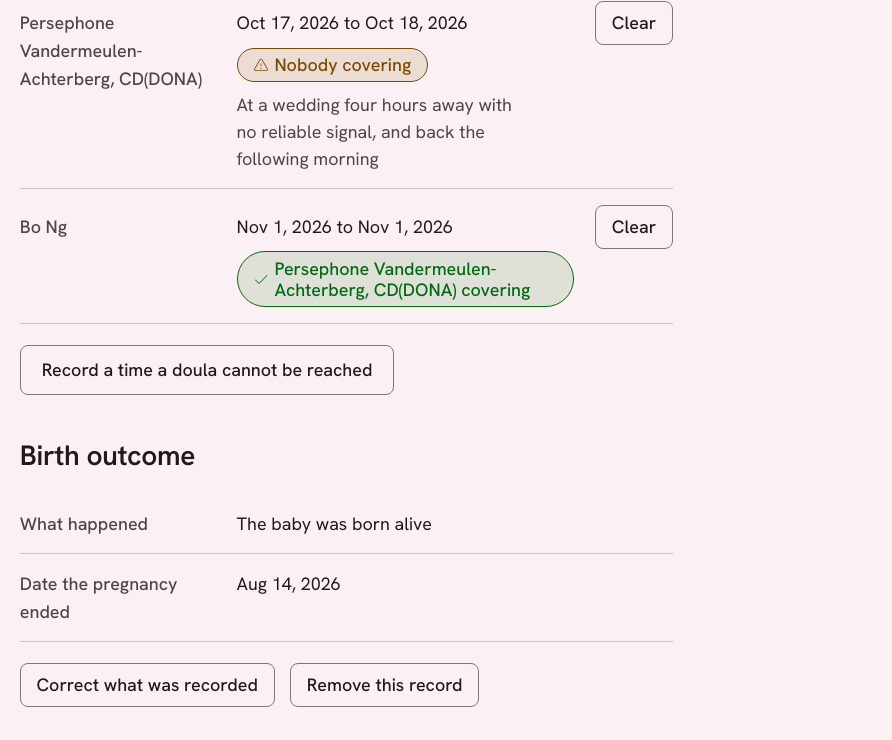
Scenario: the on-call section on a birth (#1093) › records a gap for a doula on the birth, and reads the section back
(page scrolled)
Click the button "Record a time a doula cannot be reached" at (207, 370), box [20,344,394,395]
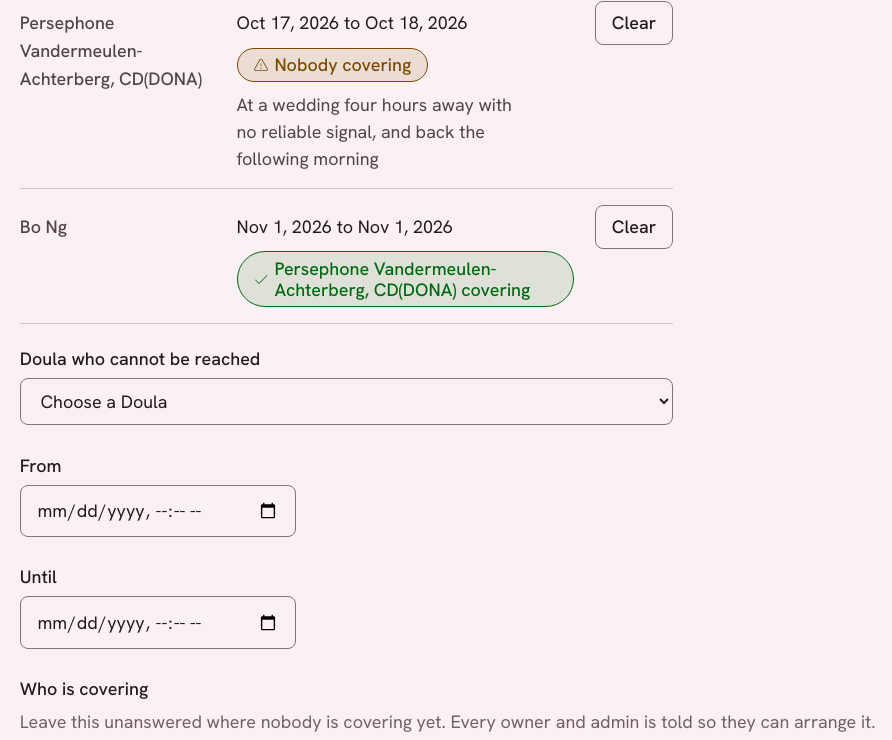
Select "Bo Ng" in the dropdown labelled "Doula who cannot be reached" at (346, 401), box [20,378,673,425]
Type "2026-10-20T22:00" into the field labelled "From" at (158, 511), box [20,485,296,537]
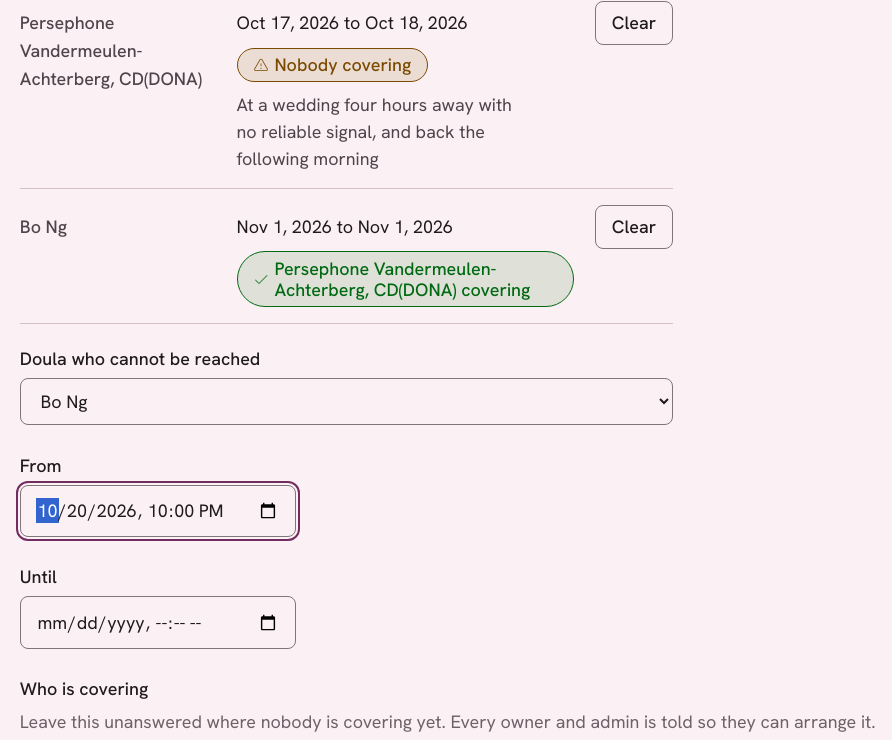
Type "2026-10-21T08:00" into the field labelled "Until" at (158, 623), box [20,596,296,649]
(page scrolled)
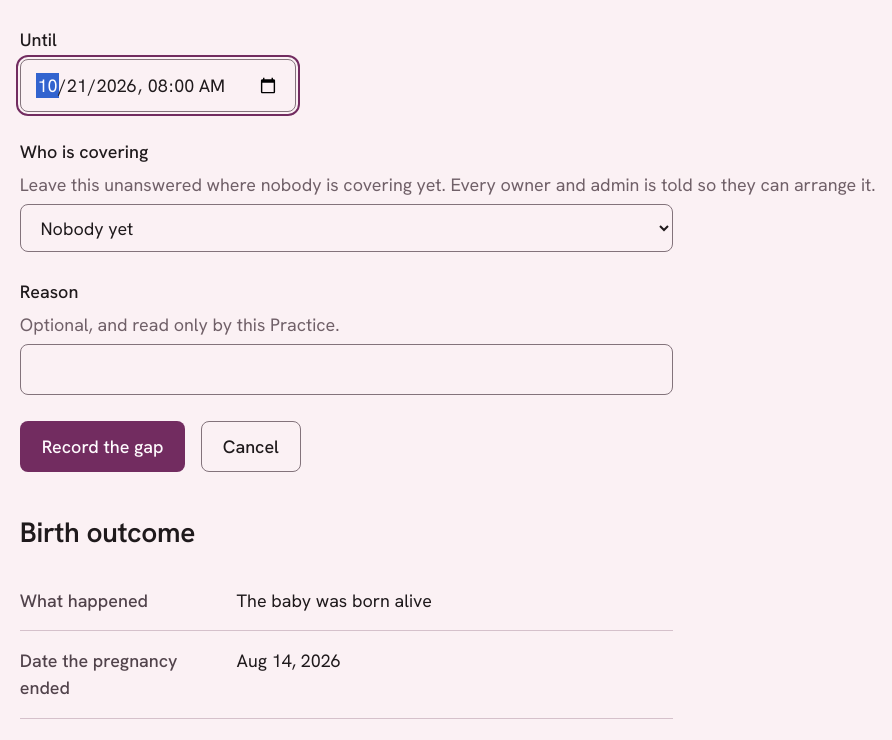
Type "Away overnight" into the field labelled "Reason" at (346, 370), box [20,344,673,395]
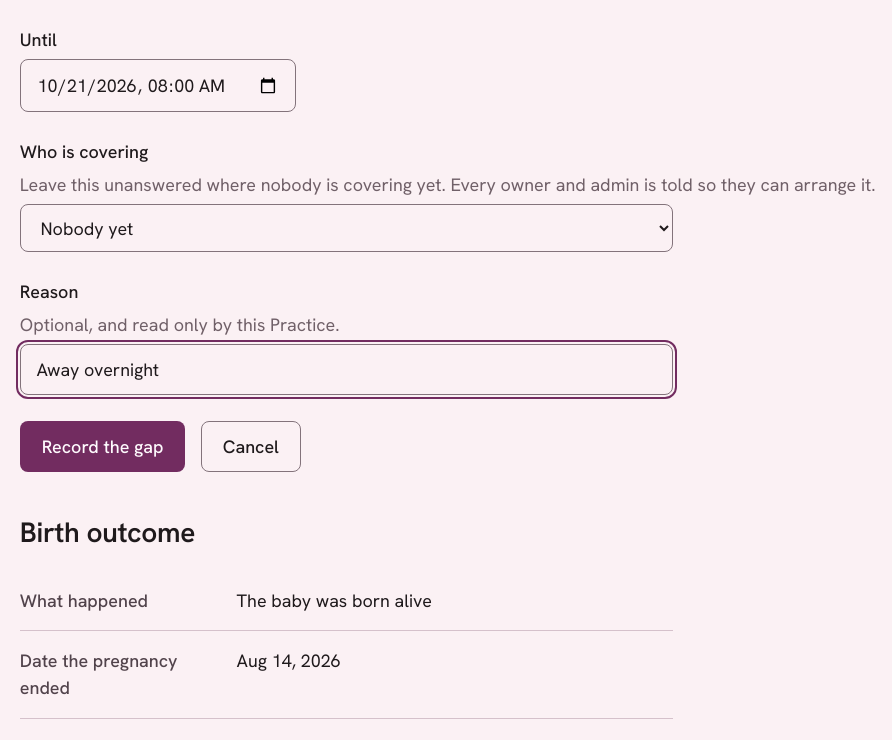
Click the button "Record the gap" at (103, 446), box [20,421,185,472]
(page scrolled)
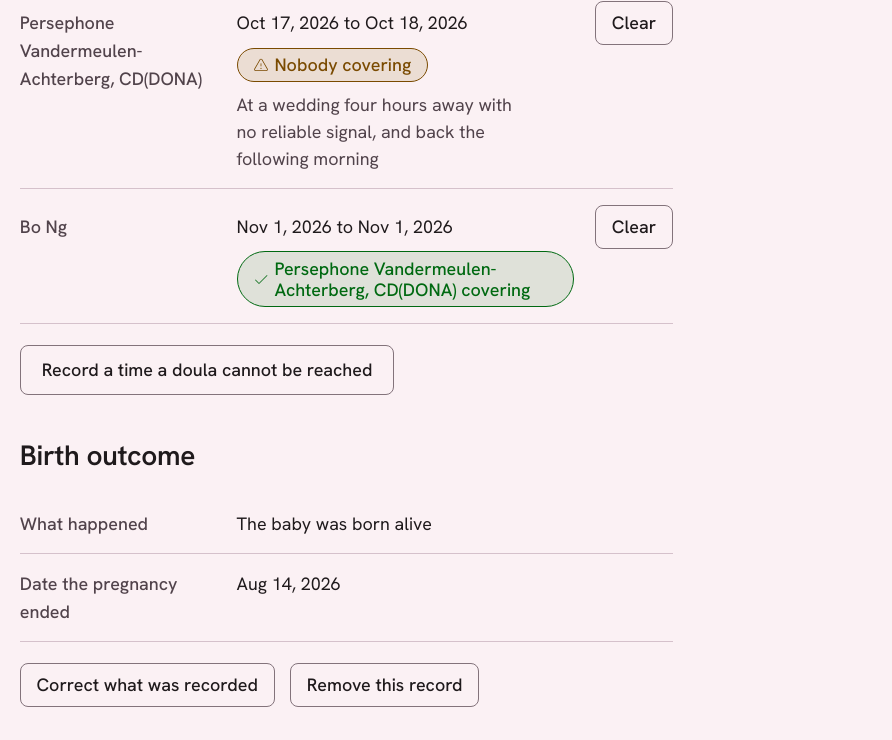
Click the button "Record a time a doula cannot be reached" at (207, 370), box [20,344,394,395]
(page scrolled)
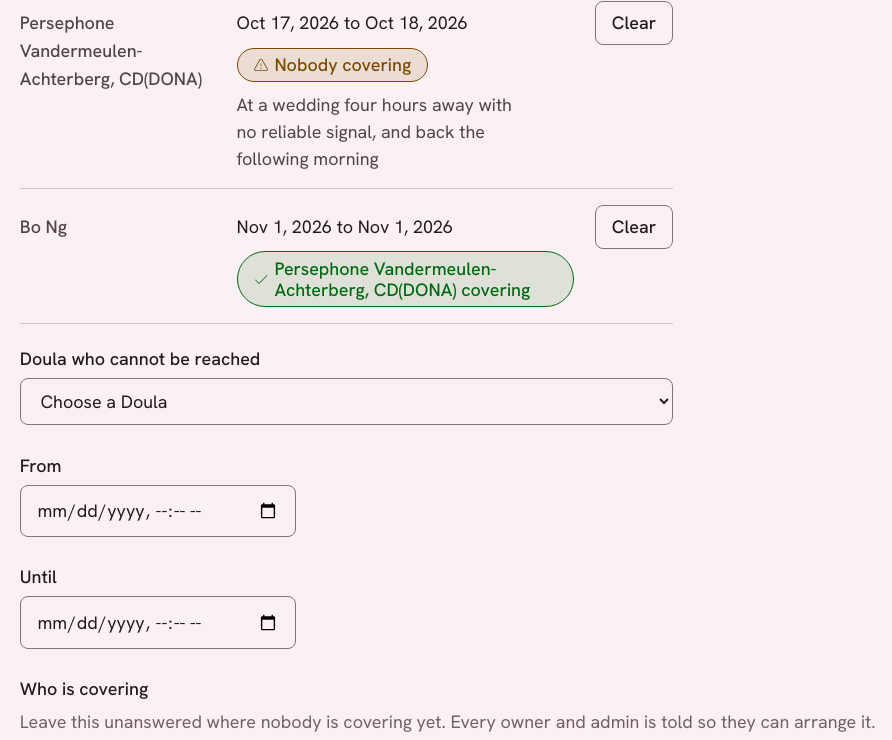
Result: the dropdown labelled "Doula who cannot be reached" shows "Choose a Doula" at [20,378,673,425]
